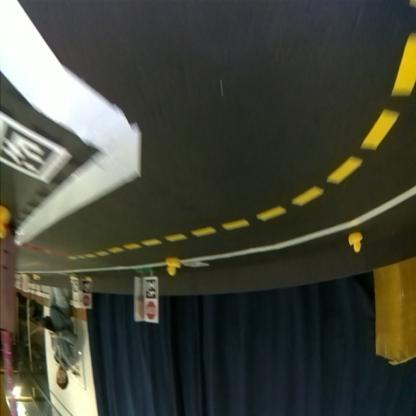Duckie: (1, 206, 12, 238), (349, 234, 363, 253), (167, 259, 180, 277)
QR code: (2, 114, 68, 184), (144, 278, 158, 299), (84, 281, 92, 294), (72, 280, 78, 293)
Stop sign: (146, 301, 158, 323), (84, 296, 93, 310)
